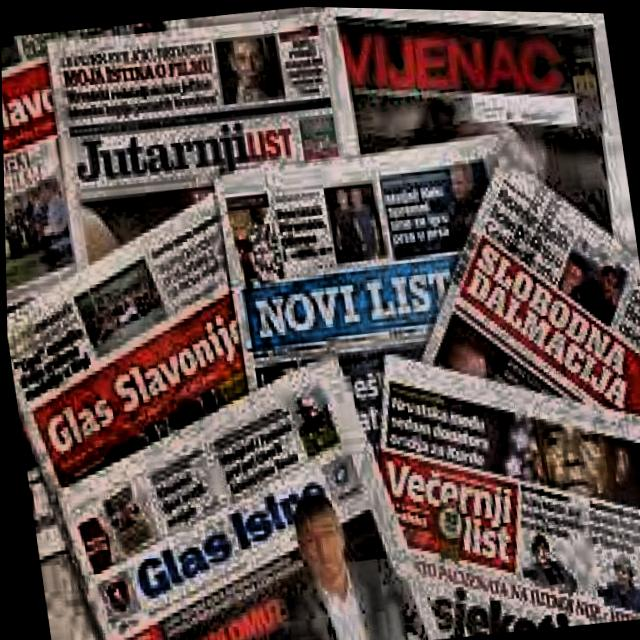Paper: (203, 111, 580, 460), (34, 338, 435, 640), (3, 172, 281, 554), (41, 1, 370, 304), (359, 313, 640, 640), (331, 6, 636, 295), (385, 135, 640, 439), (1, 52, 84, 353)
